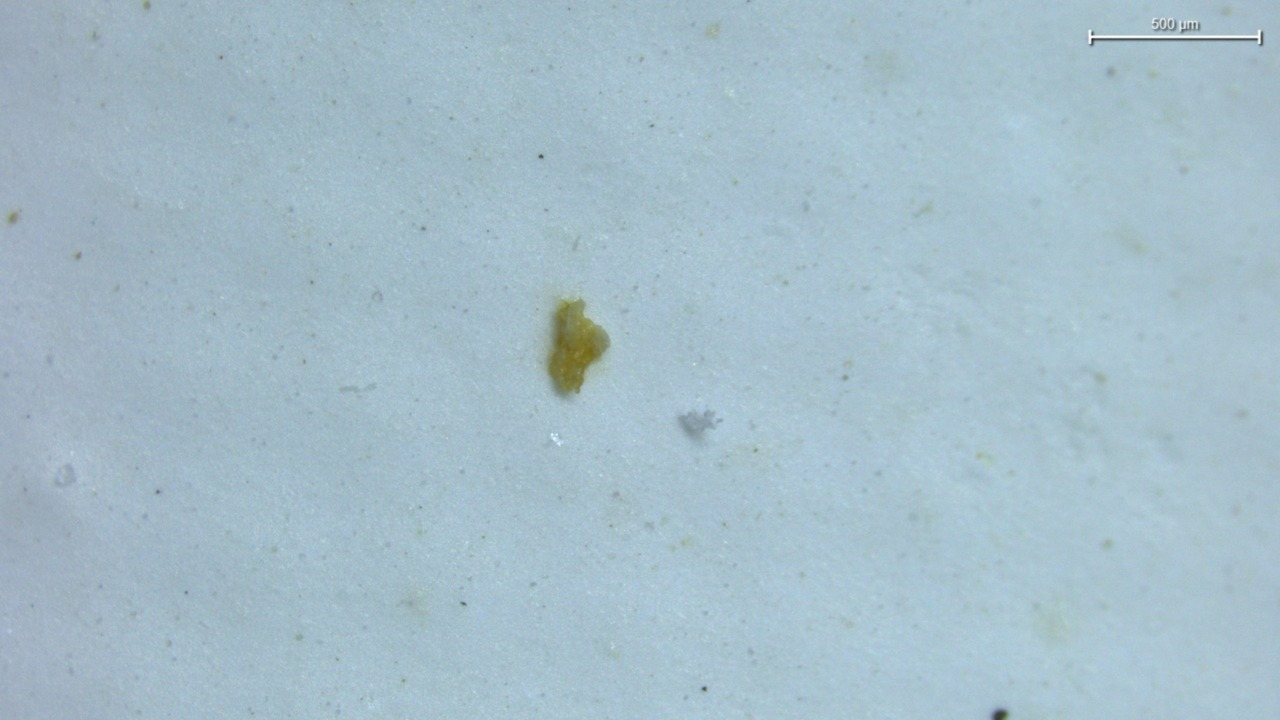microplastic_fragment: (548, 299, 609, 393), (678, 409, 723, 441)
